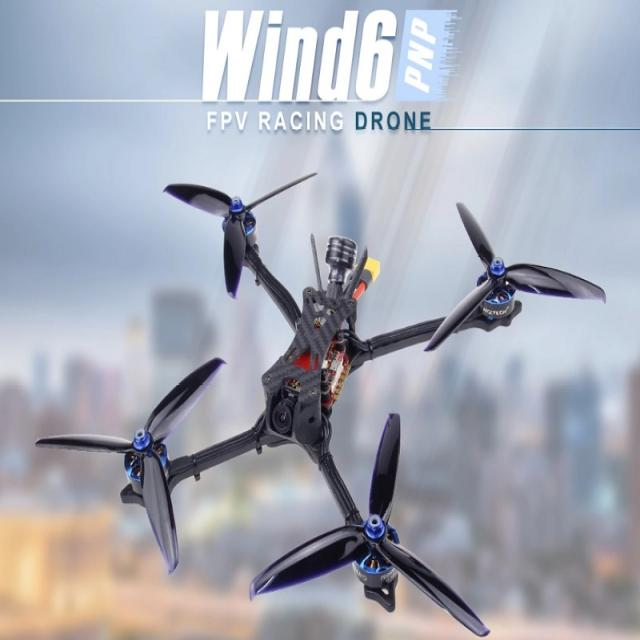drone: (35, 138, 640, 640)
